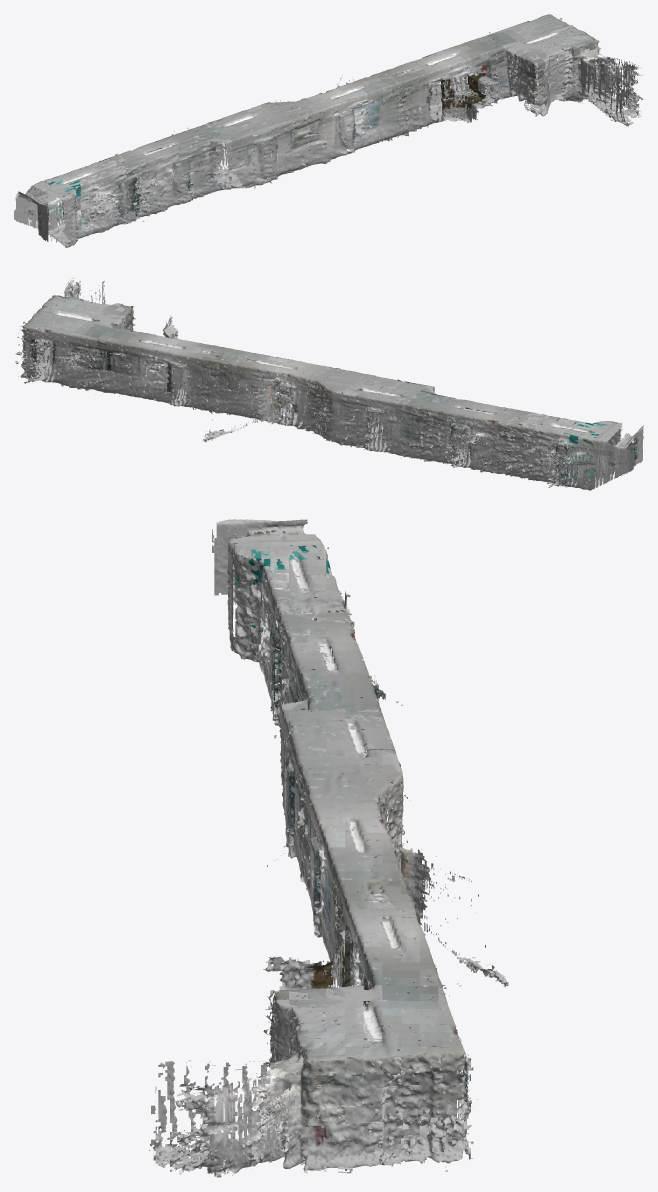
The model's file is sample_building.glb.
3 views of the same model, one above another, from view 1: azimuth 30°, elevation 25°; view 2: azimuth 150°, elevation 25°; view 3: azimuth 270°, elevation 25° (orthographic). The views are drawn at different scales.
Parts seen in each view (by area): view 1: geometry_0.301; view 2: geometry_0.301; view 3: geometry_0.301.
Part boxes in pixels (box(x1,y1,x2,y2)): geometry_0.301: box(14, 14, 643, 247); geometry_0.301: box(15, 277, 643, 490); geometry_0.301: box(149, 519, 508, 1177).
Bounding box in the file's own units: 29.3 × 3.15 × 7.71.
